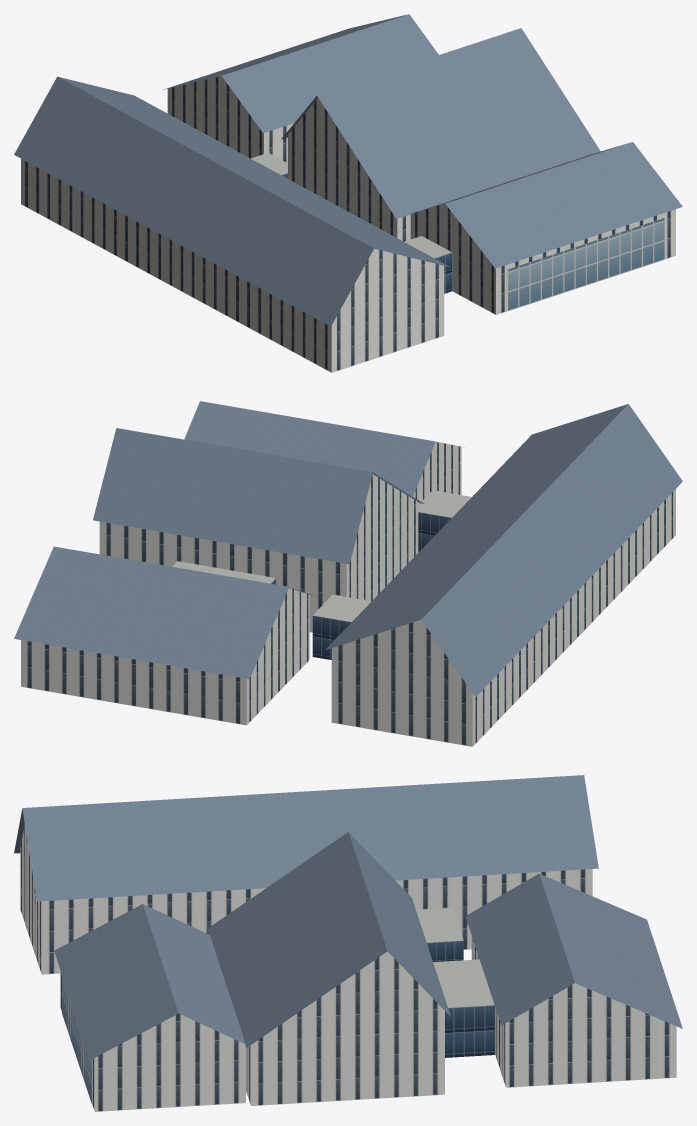
Rendered from jianshanyuan.glb.
The picture shows the model from 3 angles, top to bottom: view 1: azimuth 30°, elevation 25°; view 2: azimuth 150°, elevation 25°; view 3: azimuth 270°, elevation 25°; orthographic projection. The views are drawn at different scales.
Visible parts, largest first — view 1: 见山园; view 2: 见山园; view 3: 见山园.
Boxes of the visible parts, box(x1,y1,x2,y2) form: 见山园: box(14, 14, 682, 372); 见山园: box(14, 401, 682, 746); 见山园: box(14, 775, 682, 1111).
Bounding box in the file's own units: 72.62 × 21 × 85.39.
5 materials, 4 textured.
